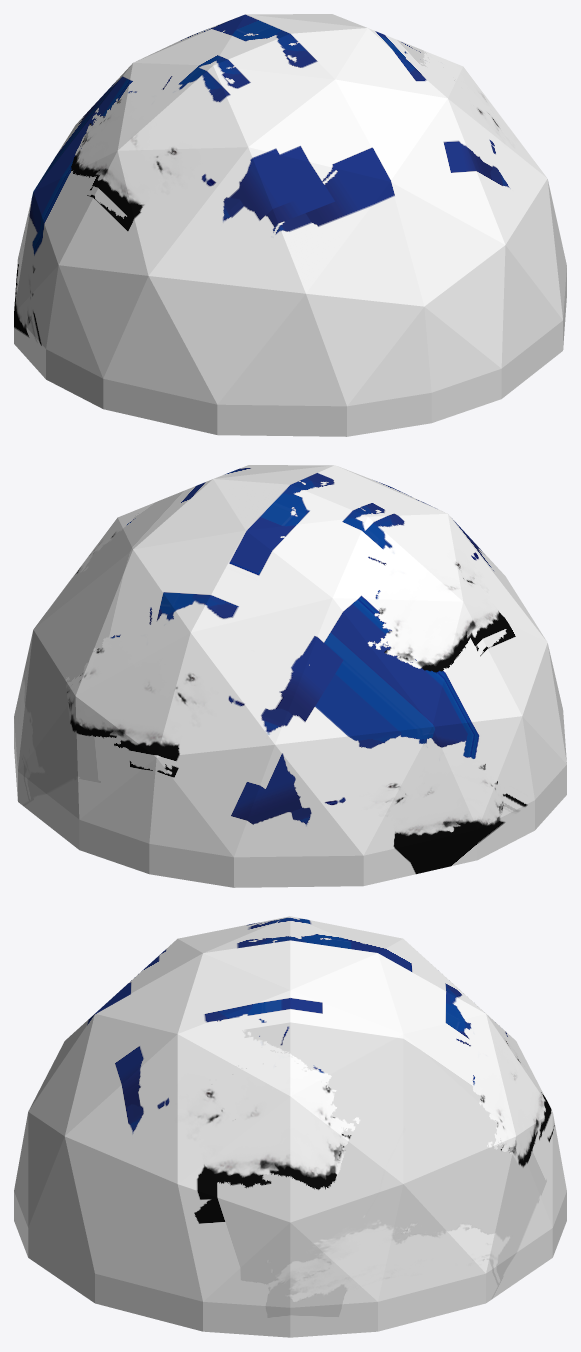
Rendered from XNR_1_UV6.FBX.
3 renders of one model, top to bottom at view 1: azimuth 30°, elevation 25°; view 2: azimuth 150°, elevation 25°; view 3: azimuth 270°, elevation 25°, orthographic. The views are drawn at different scales.
Parts seen in each view (by area): view 1: XNR_1_UV6; view 2: XNR_1_UV6; view 3: XNR_1_UV6.
Boxes of the visible parts, x1=… form: XNR_1_UV6: x1=14, y1=14, x2=566, y2=436; XNR_1_UV6: x1=14, y1=465, x2=566, y2=887; XNR_1_UV6: x1=14, y1=916, x2=566, y2=1337.
Size of the model in its own units: 369 by 207 by 369.
Materials: 1 (1 with a texture image).
